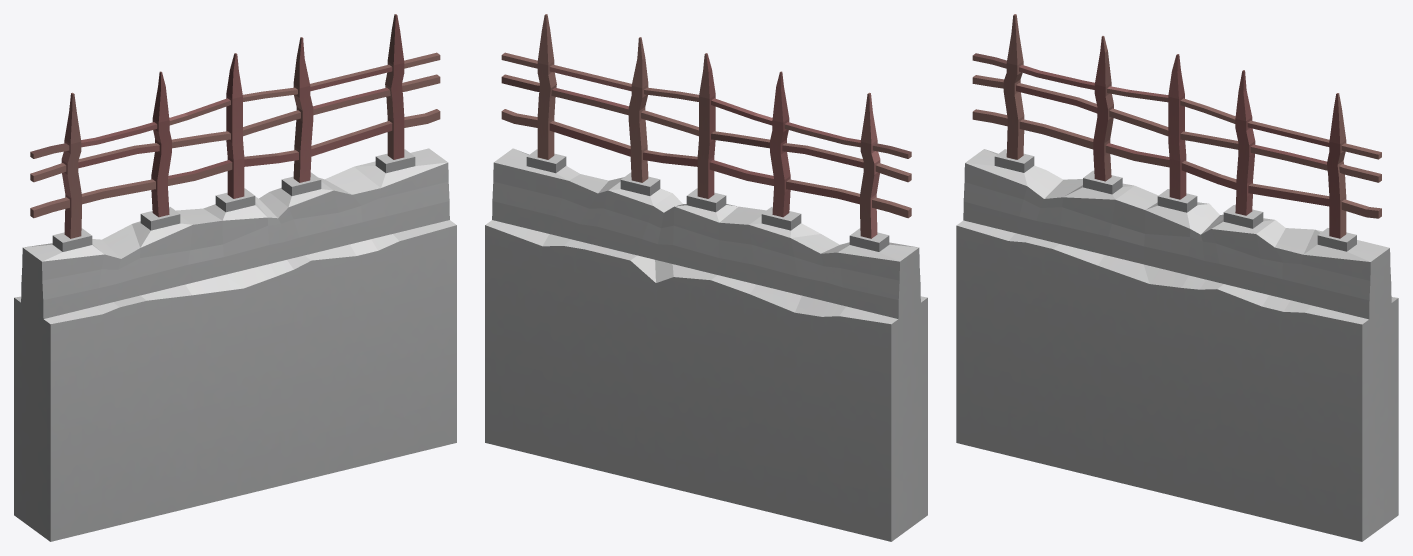
The model's file is wall_spiked.glb.
The picture shows the model from 3 angles, left to right: view 1: azimuth 30°, elevation 25°; view 2: azimuth 150°, elevation 25°; view 3: azimuth 330°, elevation 25°; orthographic projection.
Parts seen in each view (by area): view 1: wall_spiked; view 2: wall_spiked; view 3: wall_spiked.
Boxes of the visible parts, box(x1,y1,x2,y2) form: wall_spiked: box(14, 14, 456, 541); wall_spiked: box(485, 14, 927, 541); wall_spiked: box(956, 14, 1398, 541).
Size of the model in its own units: 2 by 2 by 0.3103.
1 material, 1 textured.
